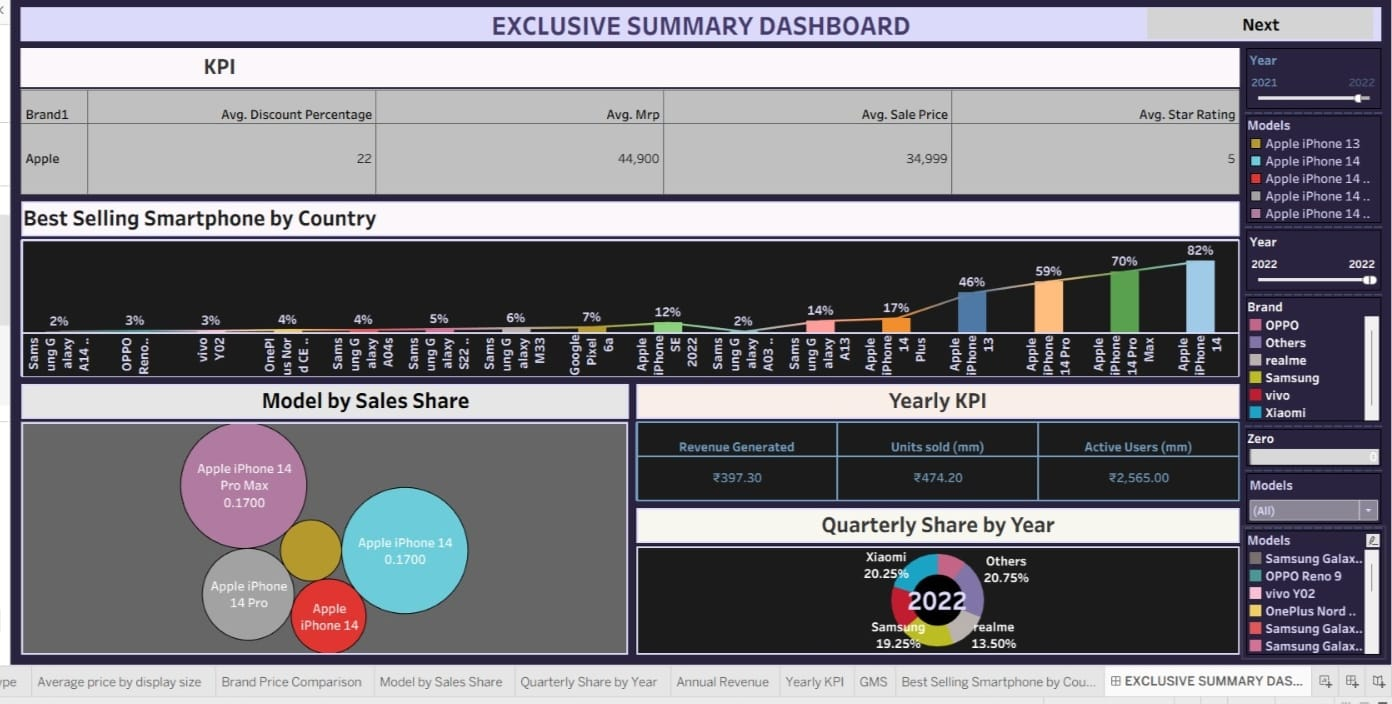

The page's visual inventory and layout, read from the dashboard file:
{"tool":"tableau","page":{"name":"EXCLUSIVE SUMMARY DASHBOARD","canvas":[1000,1000],"units":"permille","ordinal":0},"visuals":[{"type":"title","box":[4.8,10,990.3,61.2]},{"type":"dashboard-object","box":[823,16.2,164,46.2]},{"type":"worksheet","title":"KPI","mark":"Automatic","rows":["Brand"],"box":[4.8,71.2,887.7,229.7]},{"type":"filter","title":"Yearly KPI","param":"[federated.0i89eq003z1xbh19iqlgt1wvpgns].[none:Year:qk]","box":[892.6,71.2,102.6,101.1]},{"type":"legend","title":"Model by Sales Share","param":"[federated.1mce5i31xk0q35172pfse0q1p4u5].[none:Models:nk]","box":[892.6,172.3,102.6,171]},{"type":"worksheet","title":"Best Selling Smartphone by Country","mark":"Bar","rows":["Sales Share","Sales Share"],"cols":["Models"],"box":[4.8,300.8,887.7,272.9]},{"type":"filter","title":"Quarterly Share by Year","param":"[federated.01jyaud1utqddv19qhbl01gcg18d].[none:Year:qk]","box":[892.6,343.3,102.6,101.1]},{"type":"legend","title":"Quarterly Share by Year","param":"[federated.01jyaud1utqddv19qhbl01gcg18d].[none:Brand:nk]","box":[892.6,444.5,102.6,196.6]},{"type":"worksheet","title":"Model by Sales Share","mark":"Circle","box":[4.8,573.7,445.2,416.3]},{"type":"worksheet","title":"Yearly KPI","mark":"Automatic","box":[450,573.7,442.6,186.6]},{"type":"legend","title":"Quarterly Share by Year","param":"[federated.01jyaud1utqddv19qhbl01gcg18d].[usr:Calculation_0746604585623561:qk]","box":[892.6,641.1,102.6,66.2]},{"type":"filter","title":"Best Selling Smartphone by Country","param":"[federated.1kowoyp0nmvw2g178k39i0eebbf5].[none:Models:nk]","box":[892.6,707.2,102.6,86.1]},{"type":"worksheet","title":"Quarterly Share by Year","mark":"Pie","cols":["Calculation_0746604585623561","Calculation_0746604585623561"],"box":[450,760.3,442.6,229.8]},{"type":"legend","title":"Best Selling Smartphone by Country","param":"[federated.1kowoyp0nmvw2g178k39i0eebbf5].[none:Models:nk]","box":[892.6,793.4,102.6,196.6]}]}

Visuals, with their boxes on the dashboard's canvas, which has no fixed pixel size, in thousandths of its width and height (x1, y1, x2, y2). These are canvas units, not pixel positions in the 1392x704 screenshot, which may show the page scaled, cropped or inside an application window:
title: [5, 10, 995, 71]
dashboard-object: [823, 16, 987, 62]
"KPI" worksheet: [5, 71, 892, 301]
"Yearly KPI" filter: [893, 71, 995, 172]
"Model by Sales Share" legend: [893, 172, 995, 343]
"Best Selling Smartphone by Country" worksheet (Bar marks): [5, 301, 892, 574]
"Quarterly Share by Year" filter: [893, 343, 995, 444]
"Quarterly Share by Year" legend: [893, 444, 995, 641]
"Model by Sales Share" worksheet (Circle marks): [5, 574, 450, 990]
"Yearly KPI" worksheet: [450, 574, 893, 760]
"Quarterly Share by Year" legend: [893, 641, 995, 707]
"Best Selling Smartphone by Country" filter: [893, 707, 995, 793]
"Quarterly Share by Year" worksheet (Pie marks): [450, 760, 893, 990]
"Best Selling Smartphone by Country" legend: [893, 793, 995, 990]
